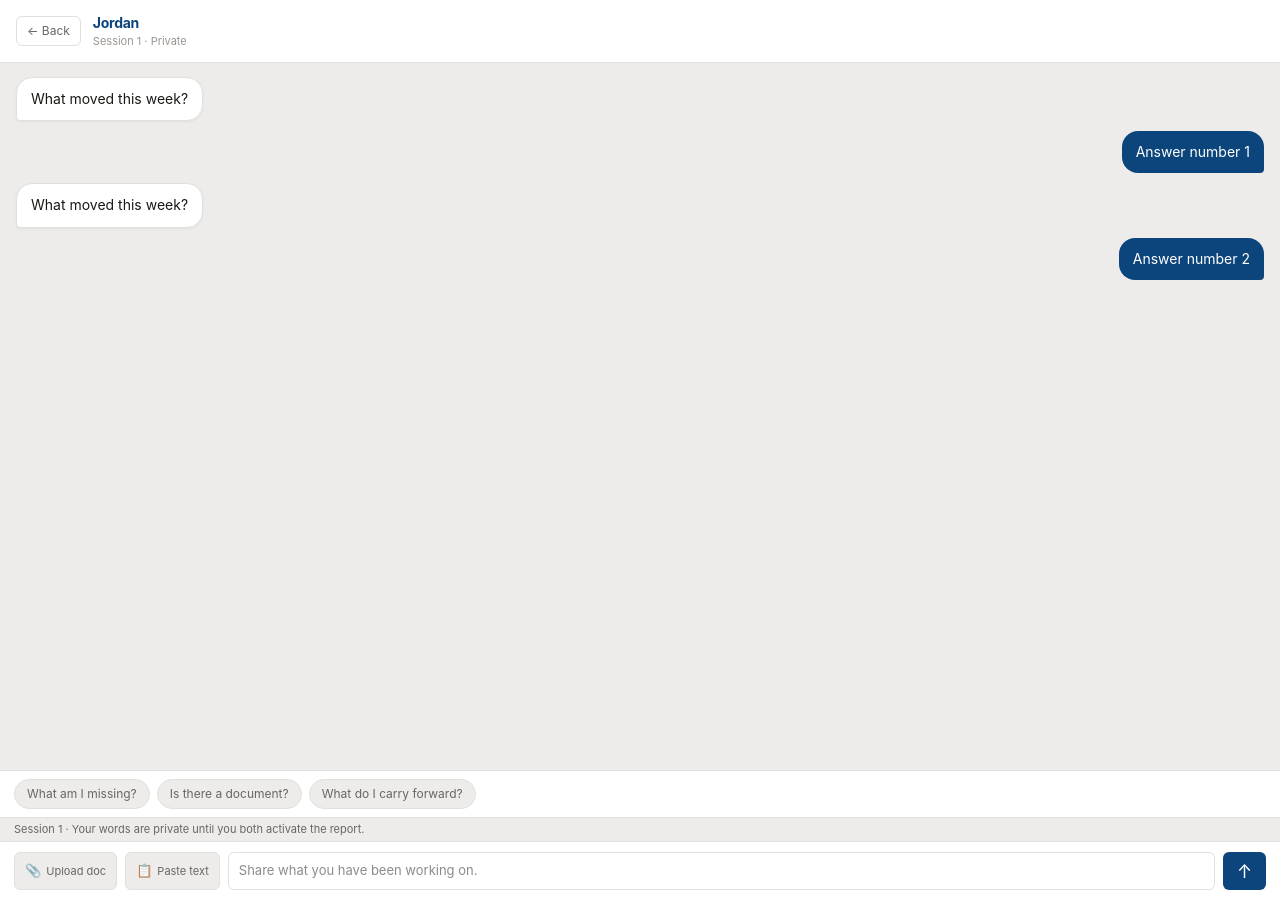
a send that never lands does not unlock the offer › keeps the offer away when the third answer never reaches the server
The image size is (1280, 900).
Expected: the text "Answer number 2" is shown, [1119, 238, 1264, 280]
Type "My third answer, which never arrives" into the text box with placeholder "Share what you have been working on.". click: (721, 871)
box: [228, 852, 1215, 890]
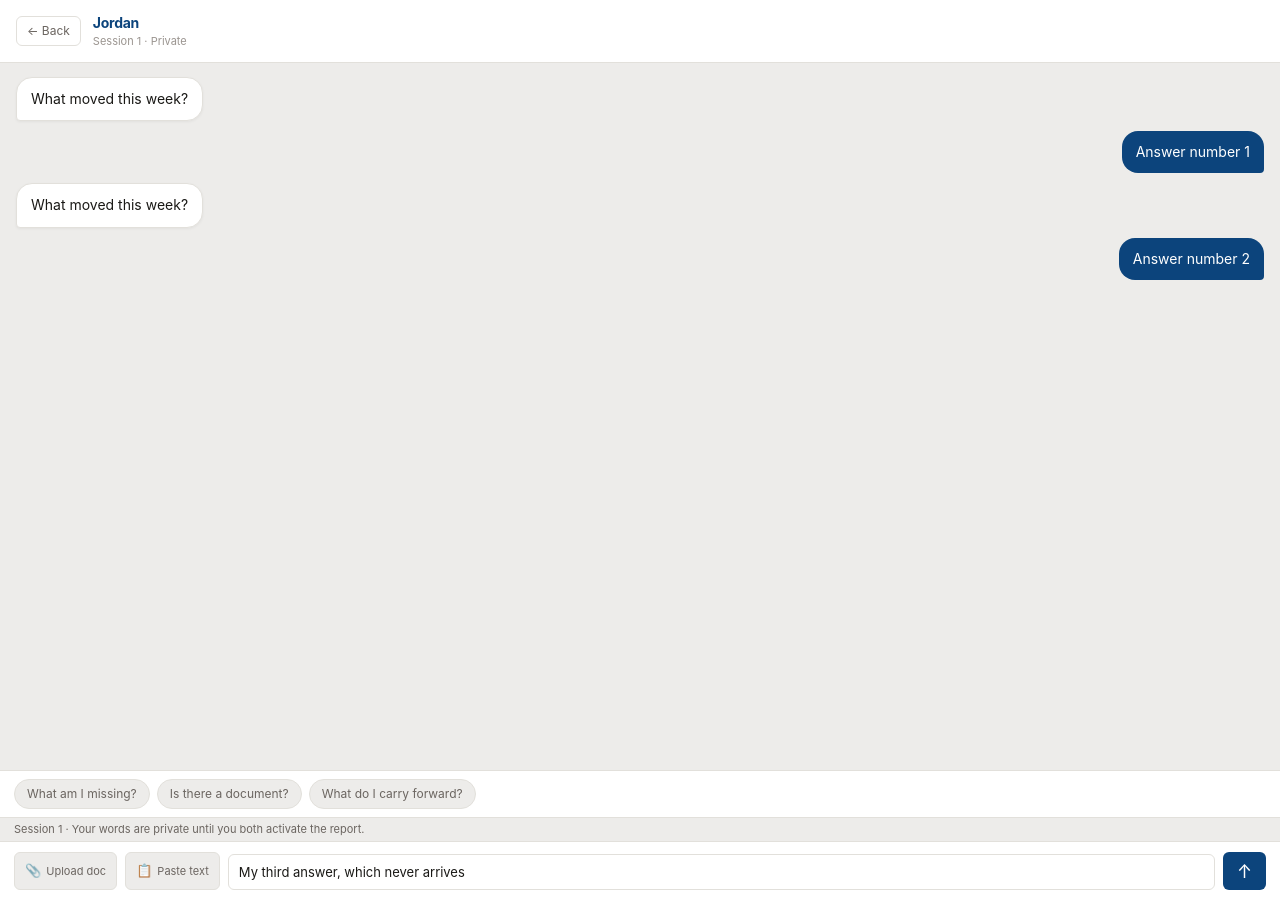
Click the button "↑". click: (1244, 871)
box: [1223, 852, 1266, 890]
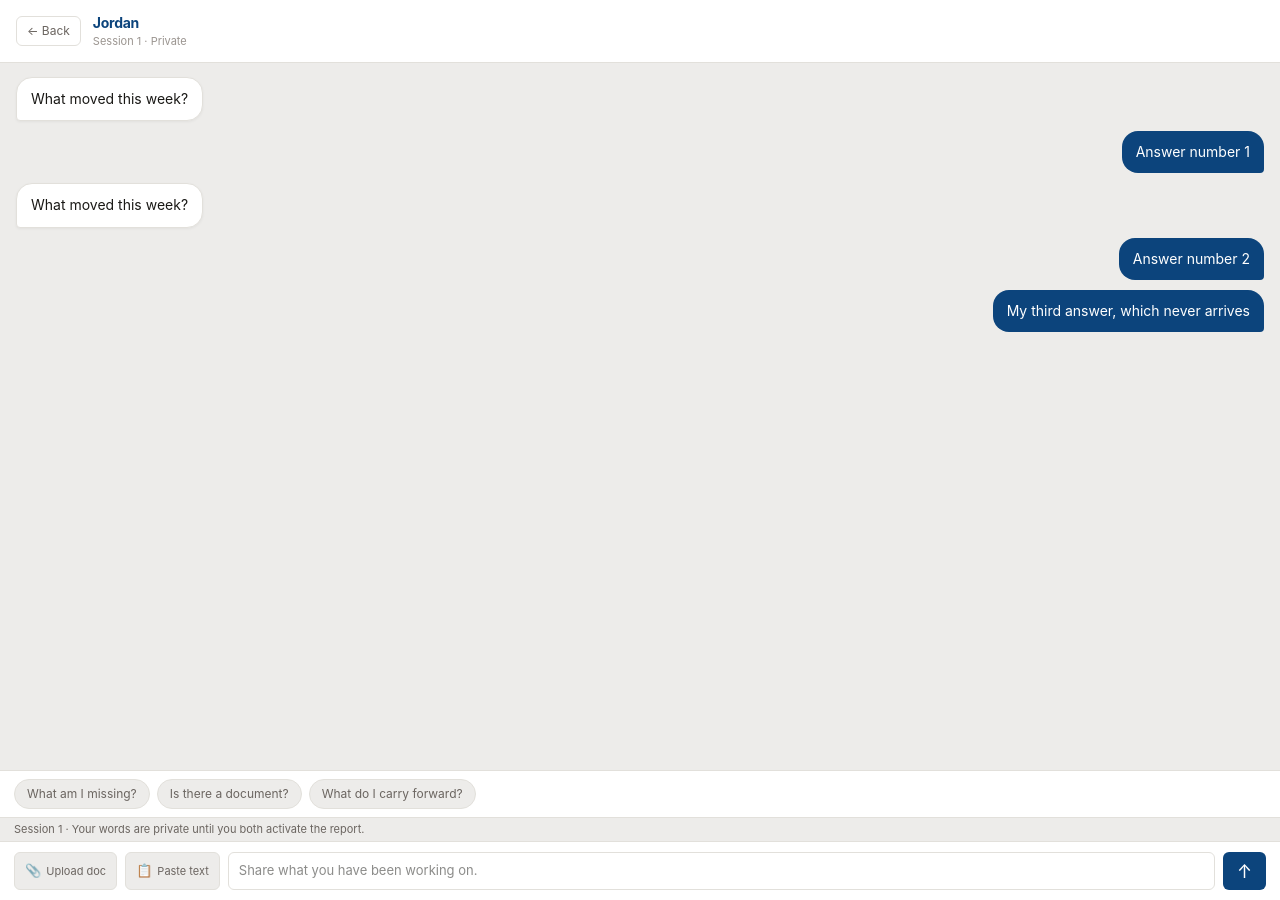
Expected: the text "My third answer, which never arrives" is shown, [993, 290, 1264, 332]
